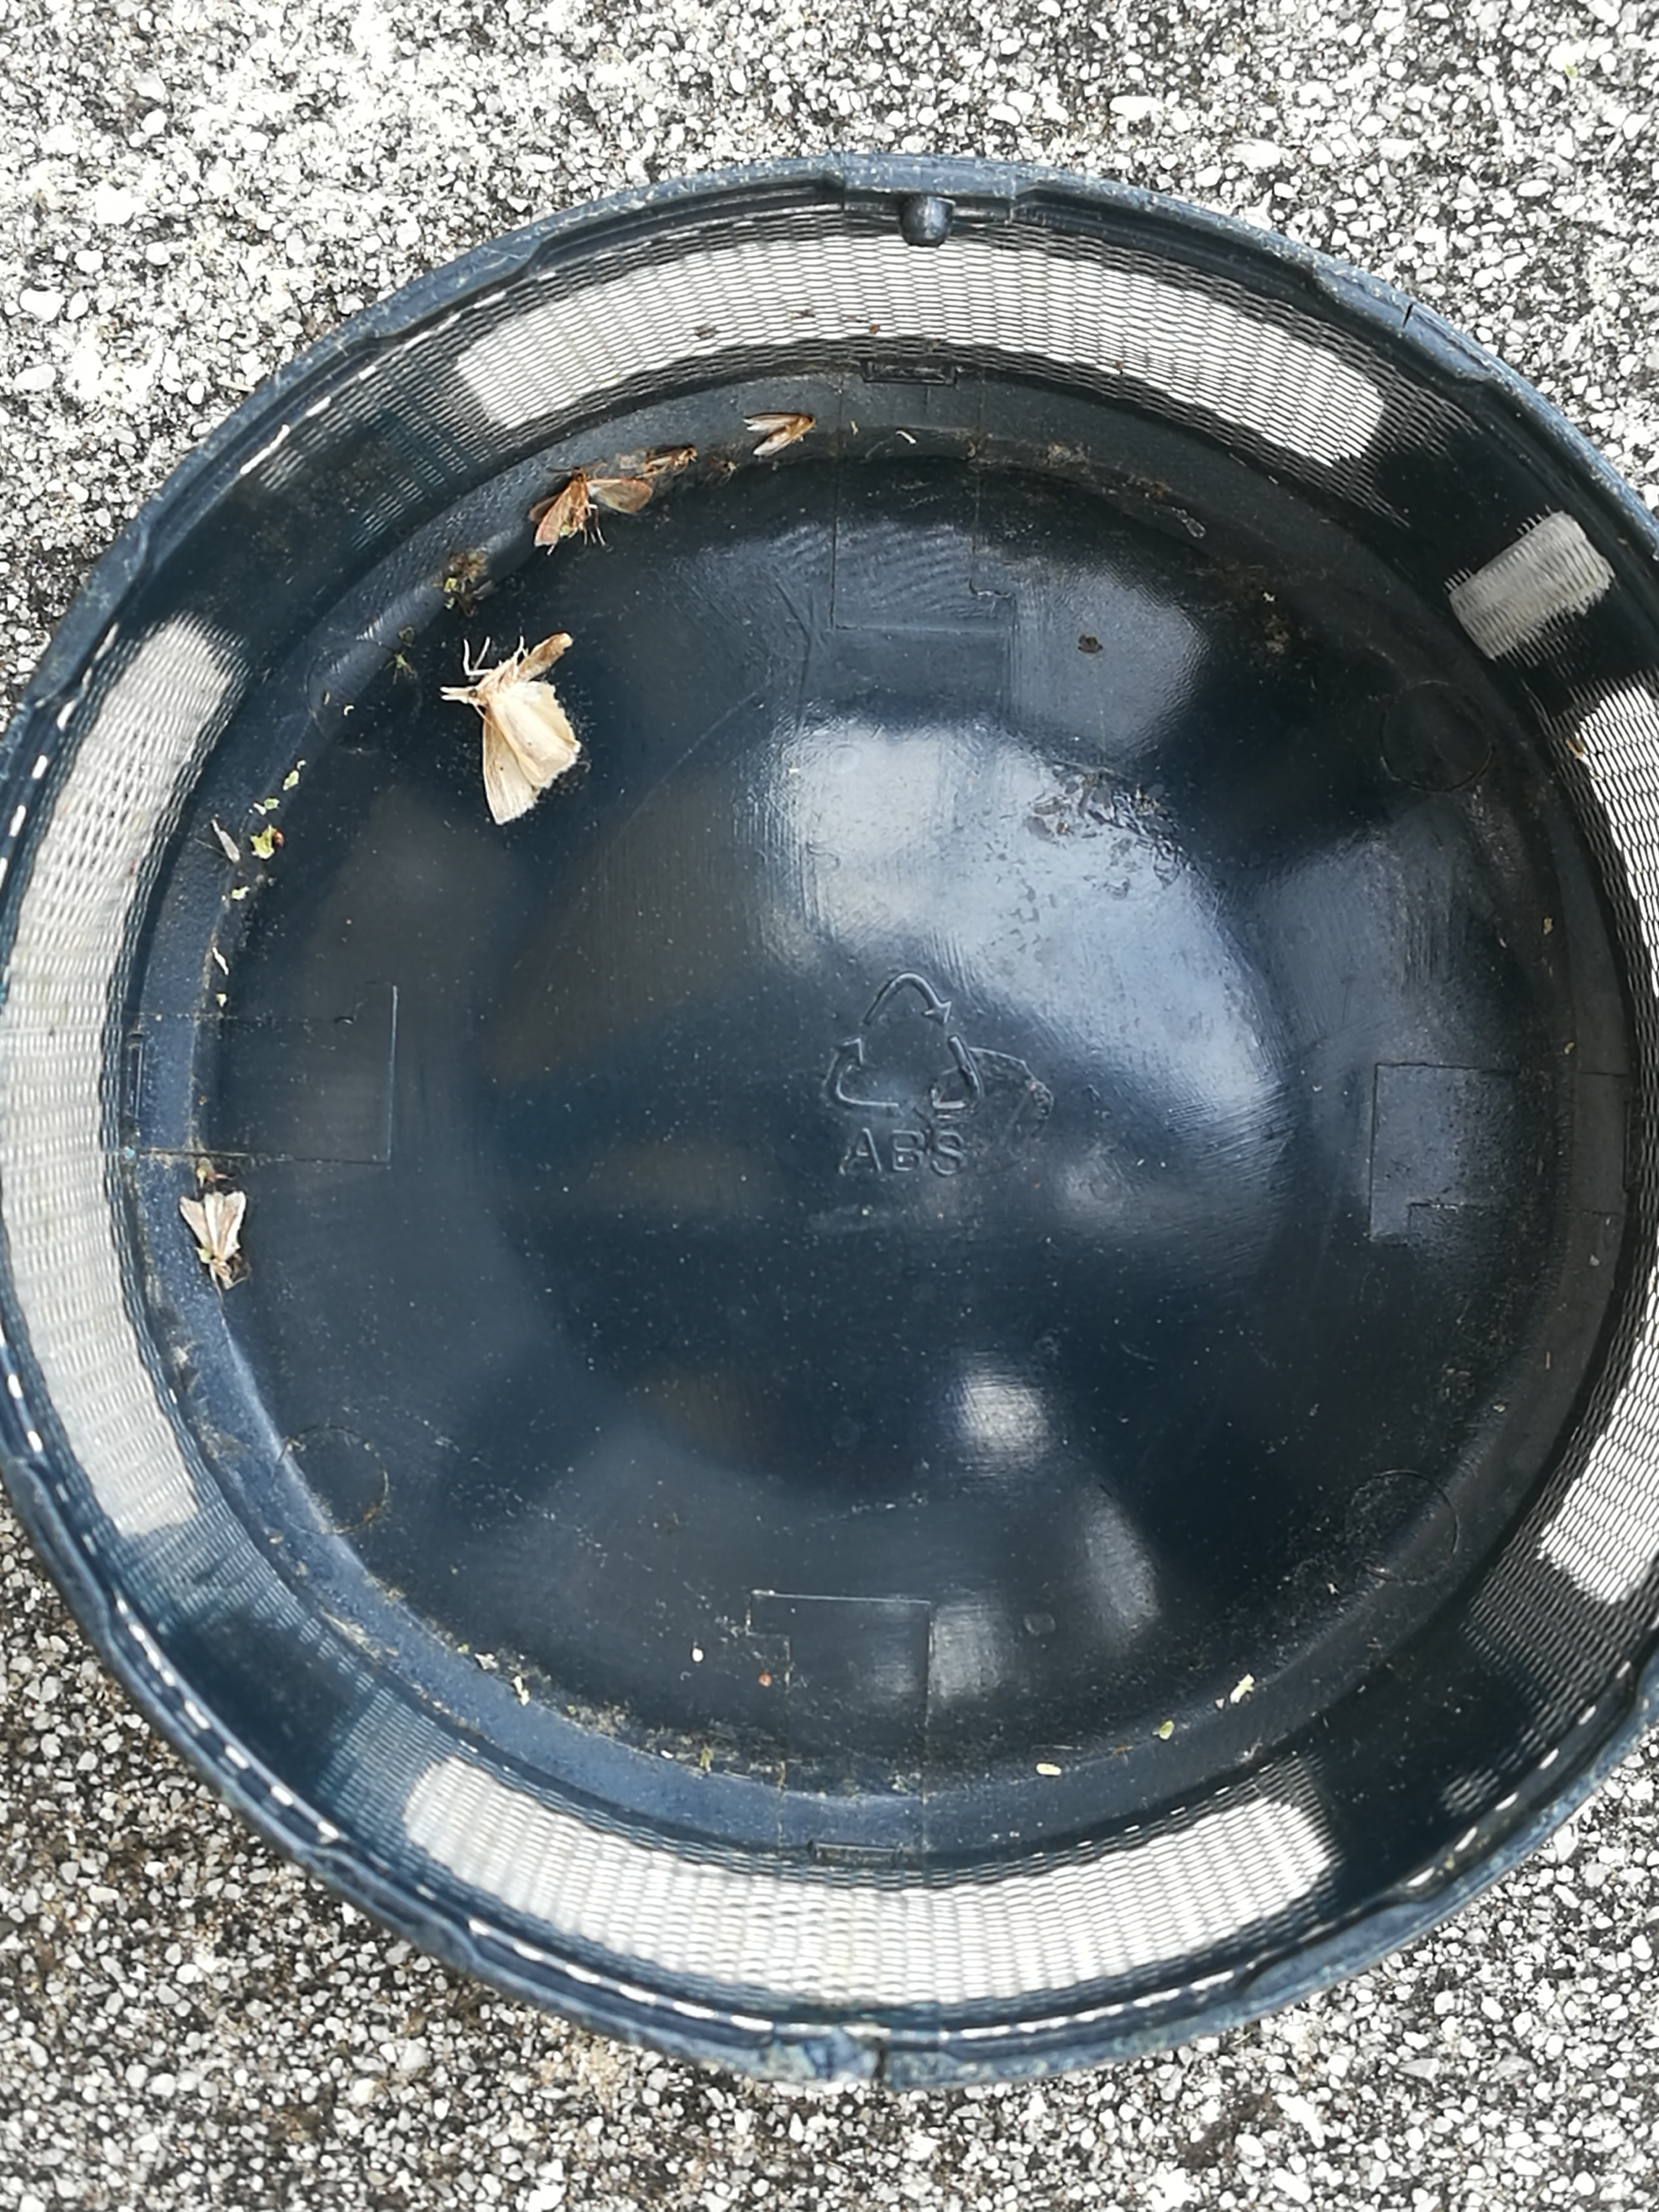mosquito: (648, 448, 699, 469)
moth: (443, 632, 580, 822), (530, 467, 652, 547), (179, 1191, 247, 1285), (748, 413, 816, 455)
